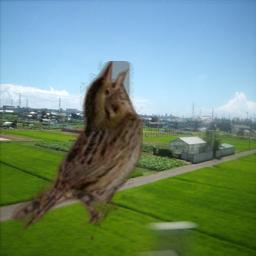Sparrow: (10, 61, 143, 230)
